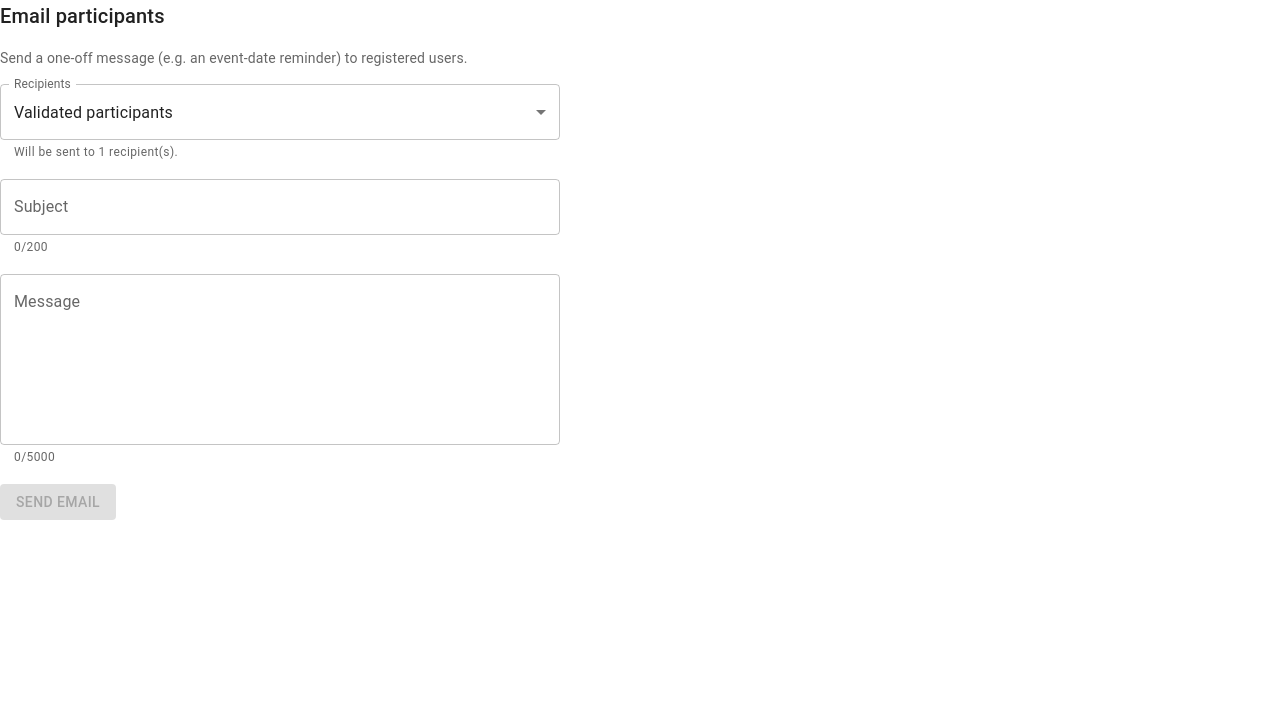
Test case: EmailPanel › shows a failure alert when sending errors
Expected: the text "Will be sent to 1 recipient(s)." is shown, [14,145,178,159]
Type "Hello" into the field labelled "Subject" at (280, 207), box [0,179,560,235]
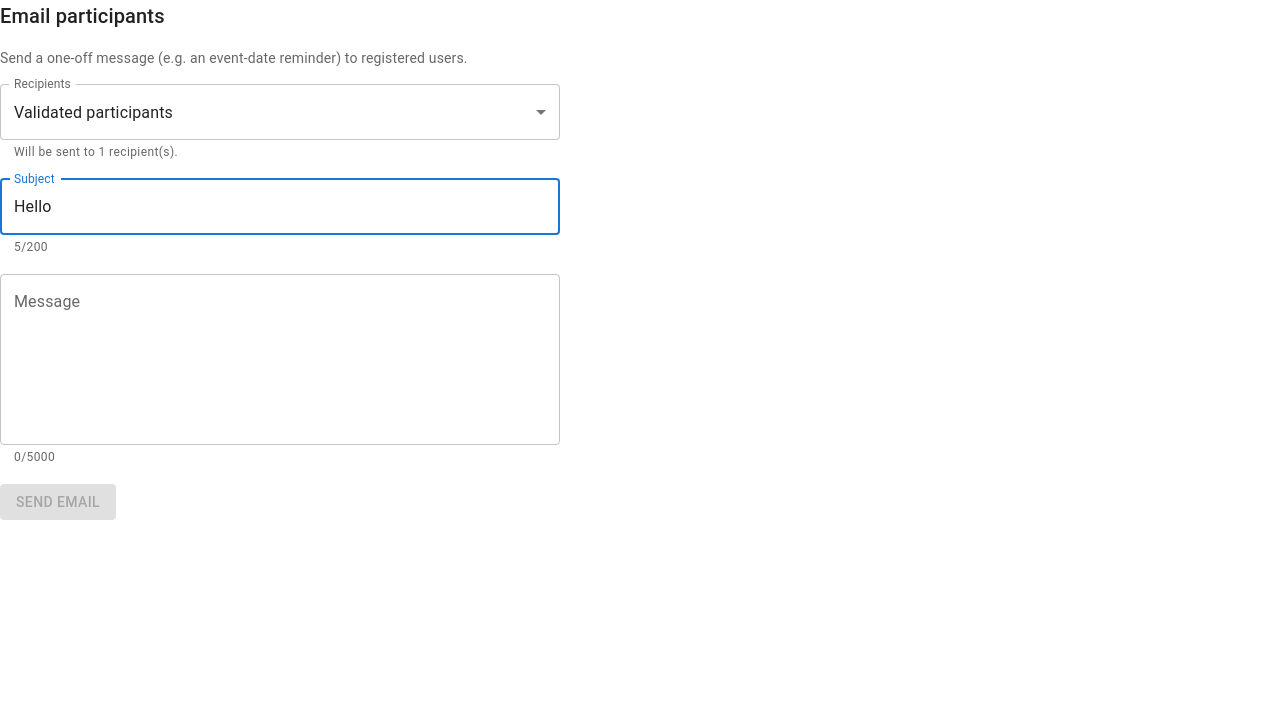
Type "World" into the text box labelled "Message" at (280, 359), box [14,290,546,428]
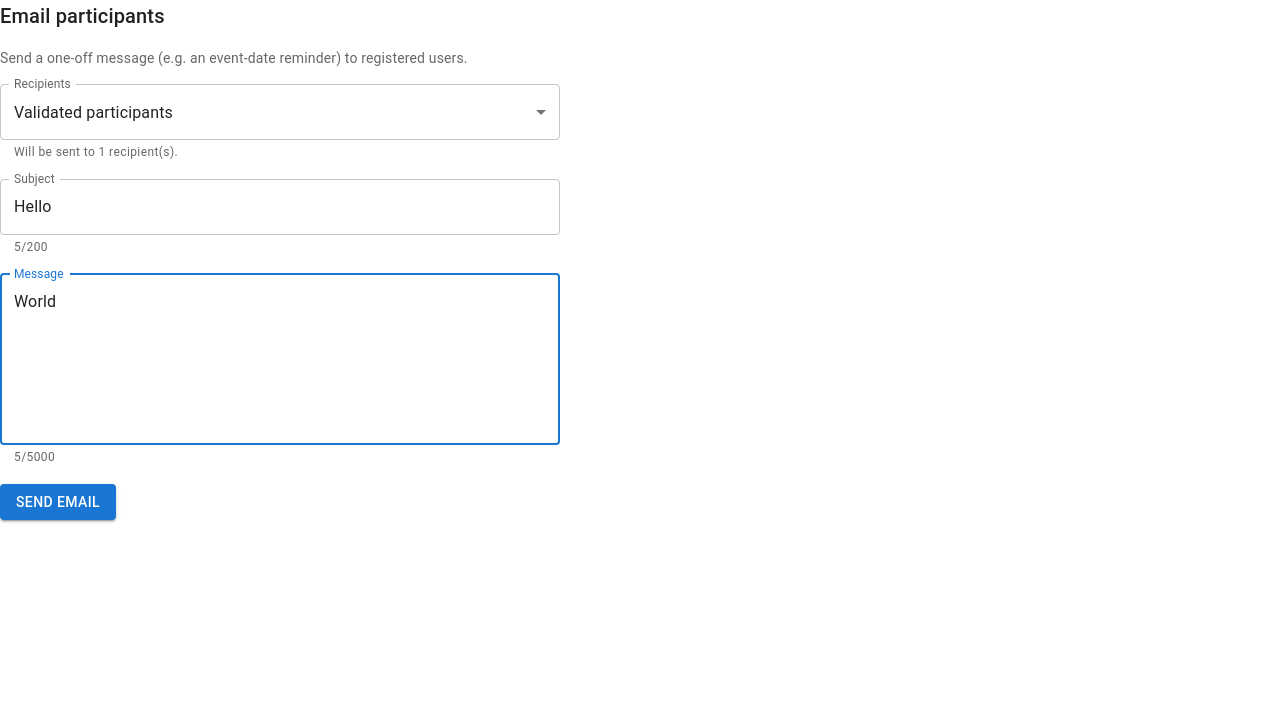
Click the button "Send email" at (58, 502), box [0,484,116,520]
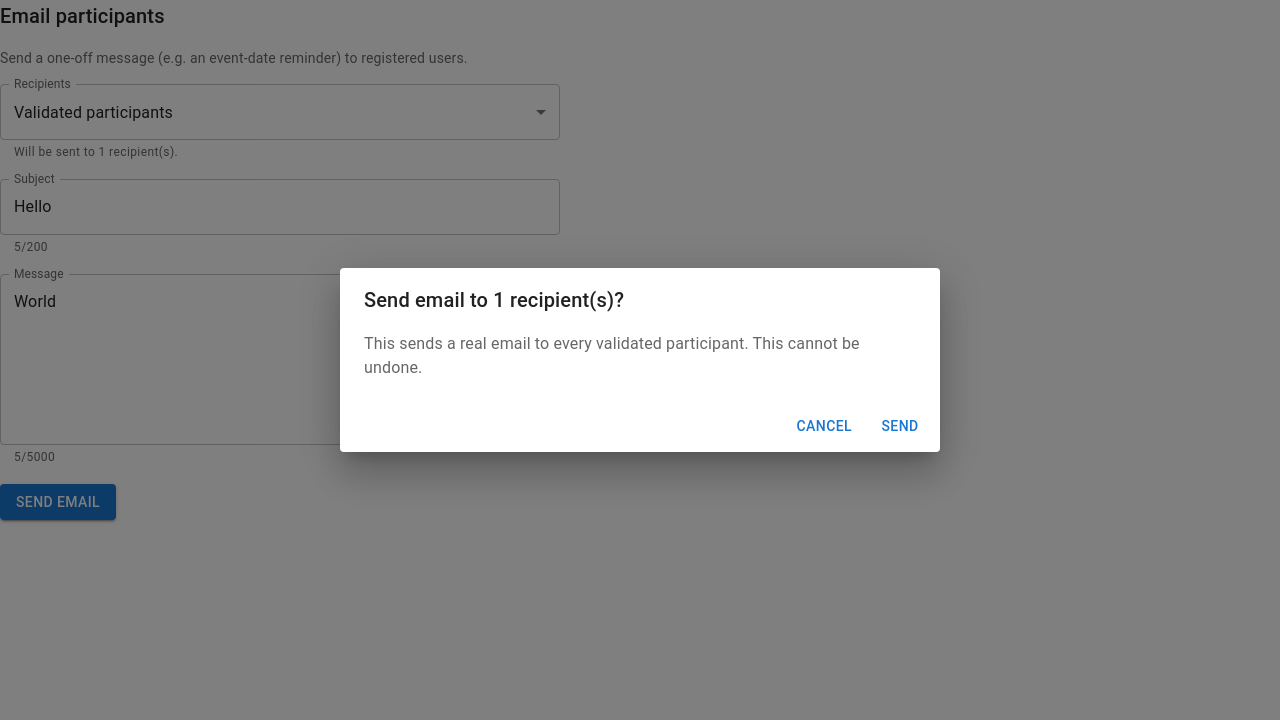
Click the button "Send" at (900, 426), box [868,408,932,444]
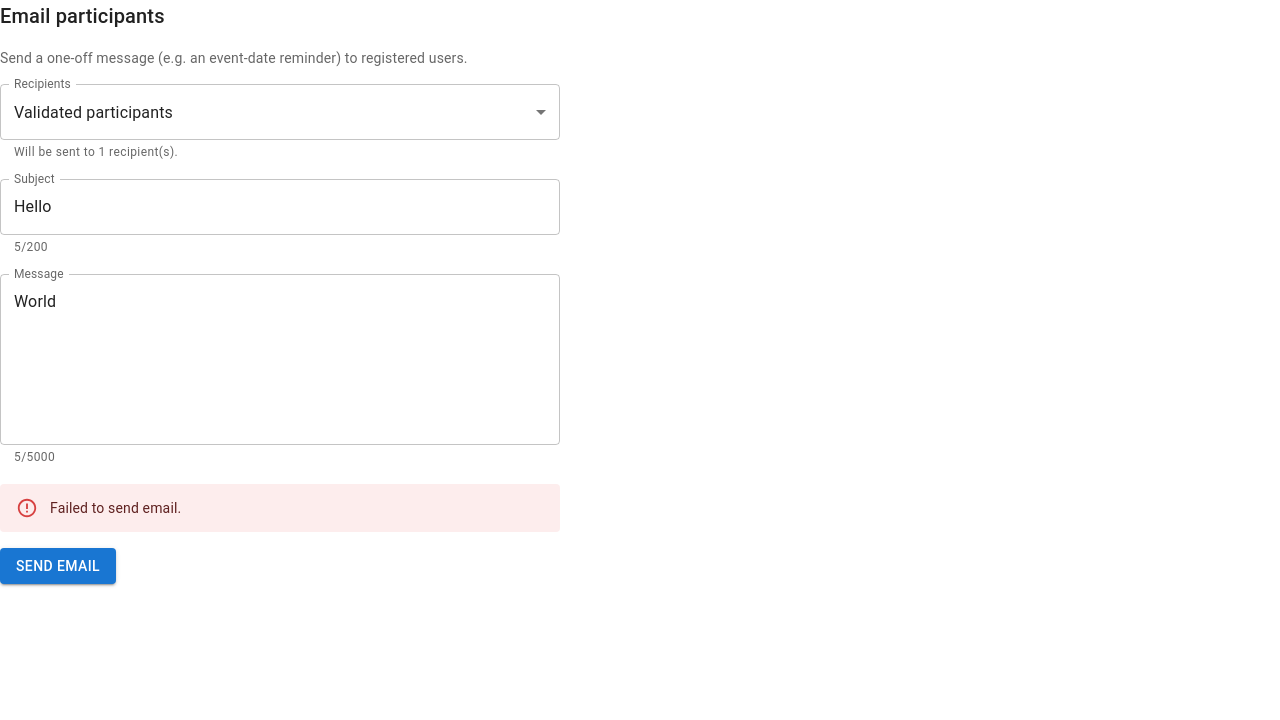
Expected: the text "Failed to send email." is shown, [50,500,181,516]
